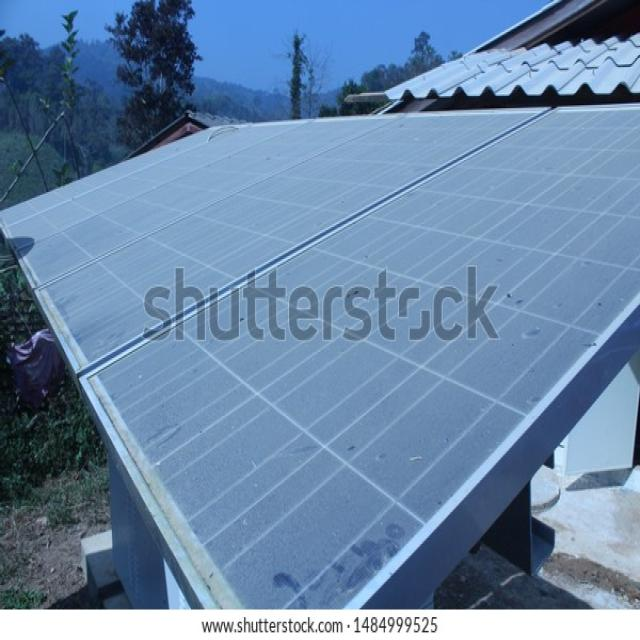dust-solar-panel: (0, 103, 640, 608)
